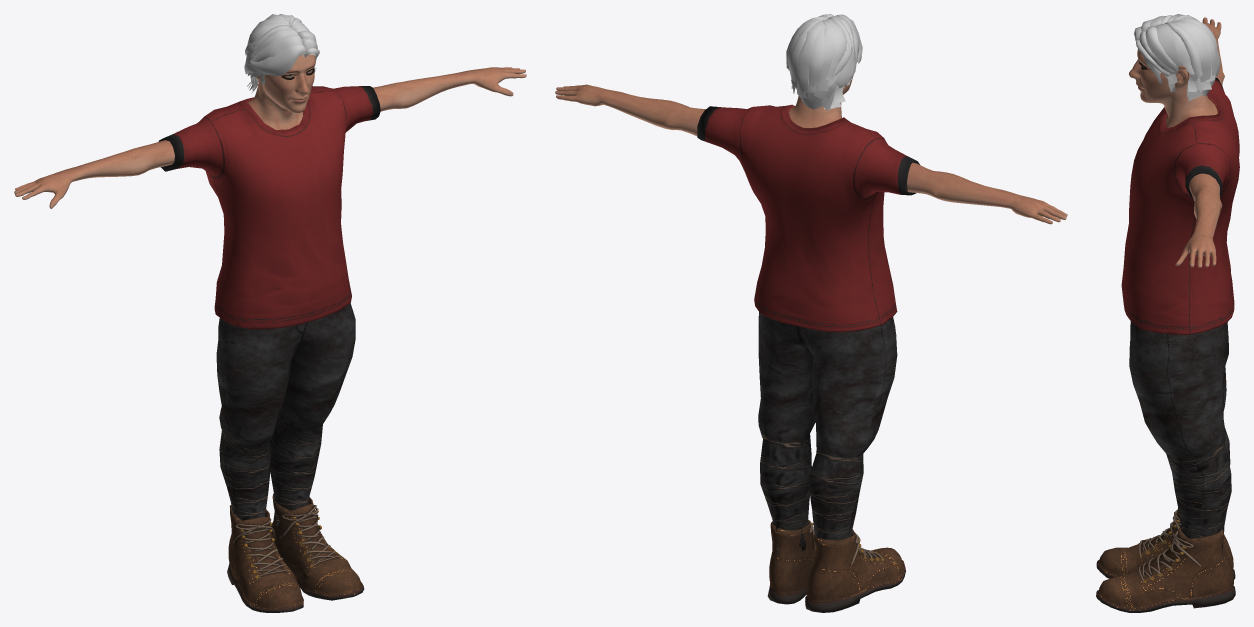
The model's file is Boy.obj.
The picture shows the model from 3 angles, left to right: view 1: azimuth 30°, elevation 25°; view 2: azimuth 150°, elevation 25°; view 3: azimuth 270°, elevation 25°; orthographic projection.
Visible parts, largest first — view 1: Tops, Bottoms, Shoes, Body, Hair; view 2: Tops, Bottoms, Shoes, Body, Hair; view 3: Tops, Bottoms, Shoes, Body, Hair.
Part boxes in pixels (x1,y1,x2,y2): Tops: [158, 86, 380, 329]; Bottoms: [216, 303, 355, 526]; Shoes: [227, 493, 364, 612]; Body: [14, 54, 526, 208]; Hair: [244, 14, 319, 93]; Tops: [697, 104, 919, 332]; Bottoms: [758, 312, 897, 553]; Shoes: [767, 520, 905, 612]; Body: [555, 75, 1067, 224]; Hair: [786, 14, 862, 110]; Tops: [1121, 77, 1239, 335]; Bottoms: [1129, 321, 1231, 554]; Shoes: [1096, 508, 1235, 612]; Body: [1129, 17, 1224, 267]; Hair: [1134, 14, 1220, 101].
Bounding box in the file's own units: 167 × 177 × 40.35.
